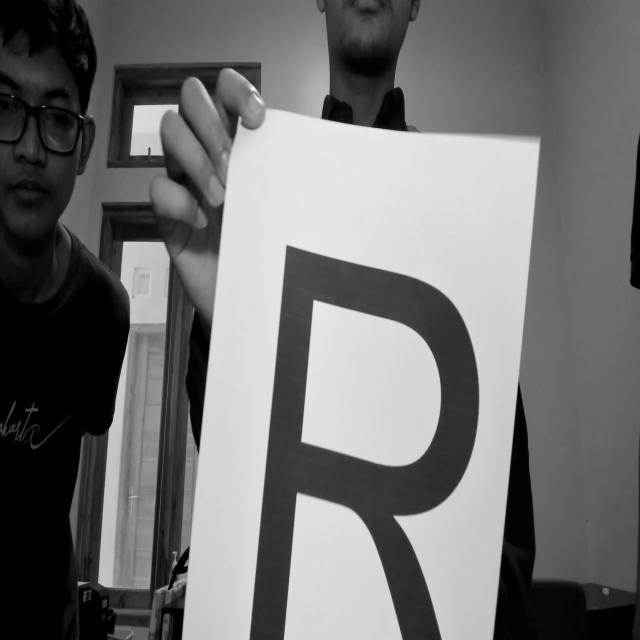r: (222, 215, 498, 640)
